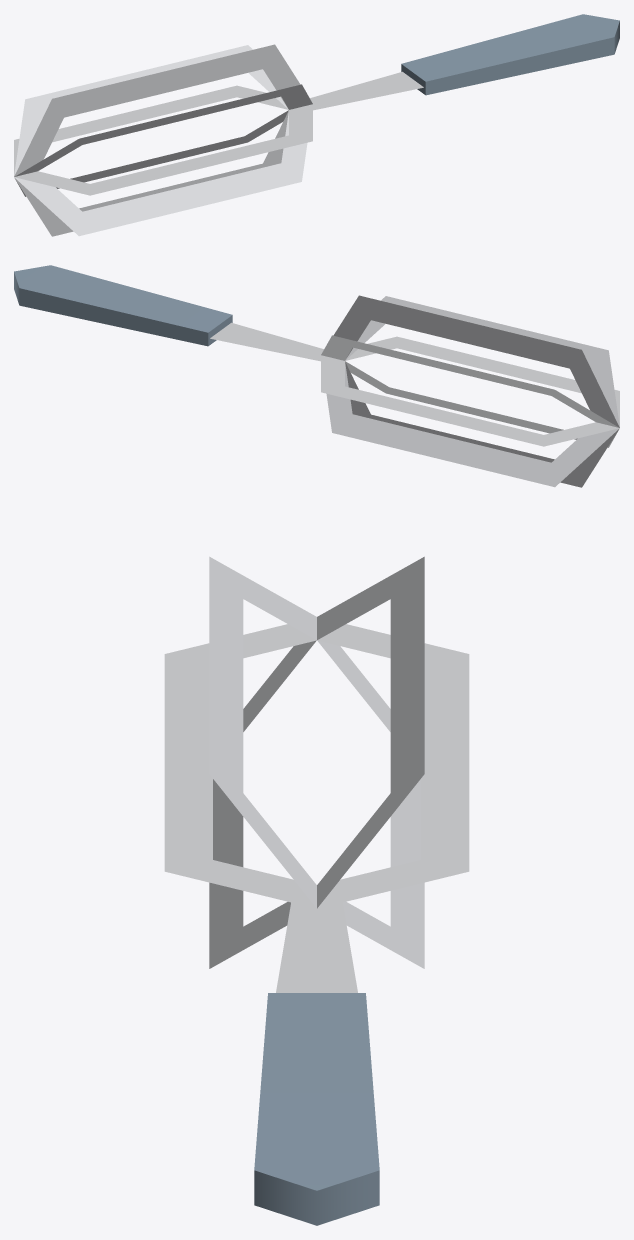
File: Whisk.glb
The picture shows the model from 3 angles, top to bottom: view 1: azimuth 30°, elevation 25°; view 2: azimuth 150°, elevation 25°; view 3: azimuth 270°, elevation 25°; orthographic projection. The views are drawn at different scales.
Visible parts, largest first — view 1: whisk; view 2: whisk; view 3: whisk.
Part boxes in pixels (box(x1,y1,x2,y2)): whisk: box(14, 14, 619, 236); whisk: box(14, 265, 619, 487); whisk: box(164, 556, 469, 1225).
Size of the model in its own units: 0.7244 by 0.1576 by 0.1576.
